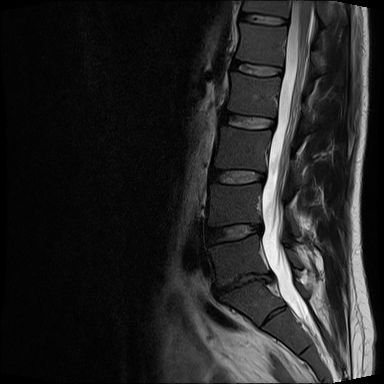Degenerative Disc Disease (DDD): (207, 269, 283, 300)
Lumbar Disc Bulge (LDB): (209, 264, 281, 301), (202, 219, 271, 251)
Normal IVD: (220, 108, 281, 134), (226, 56, 285, 80), (205, 168, 271, 187), (233, 9, 292, 28)
Spinal Stenosis (SS): (251, 220, 269, 241), (260, 269, 278, 289)
